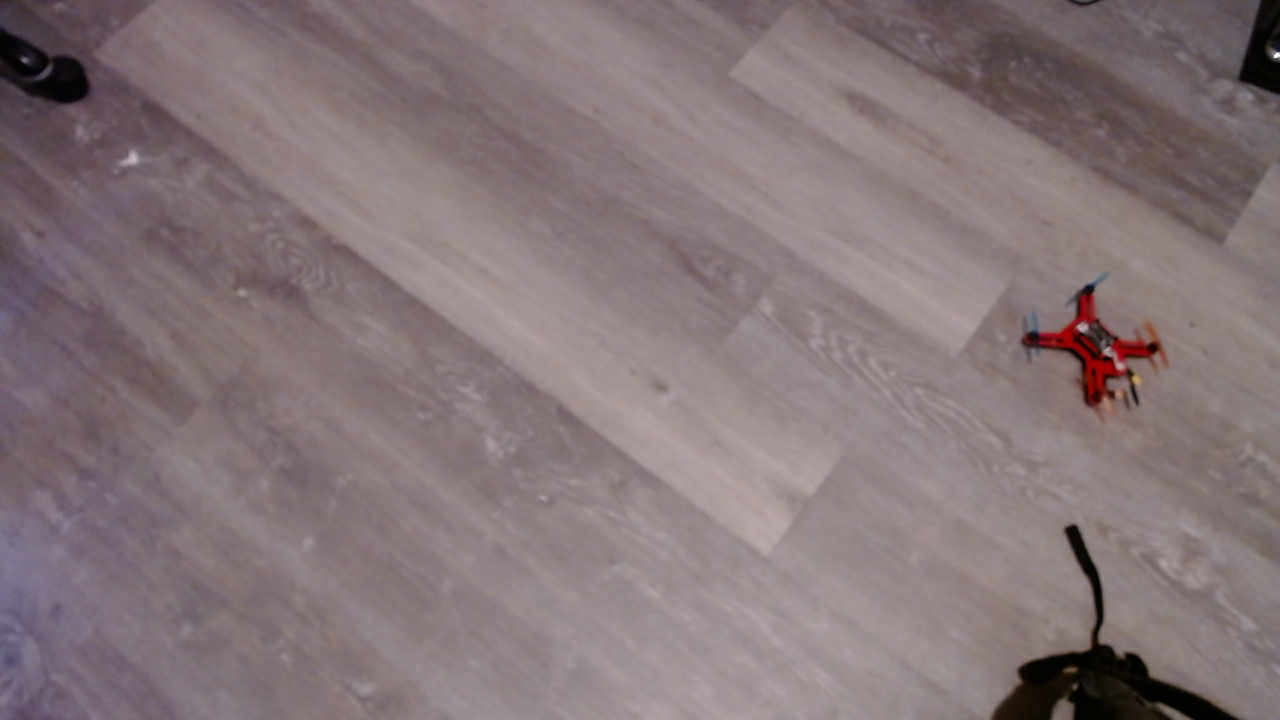crazyflie: (1030, 280, 1183, 426)
